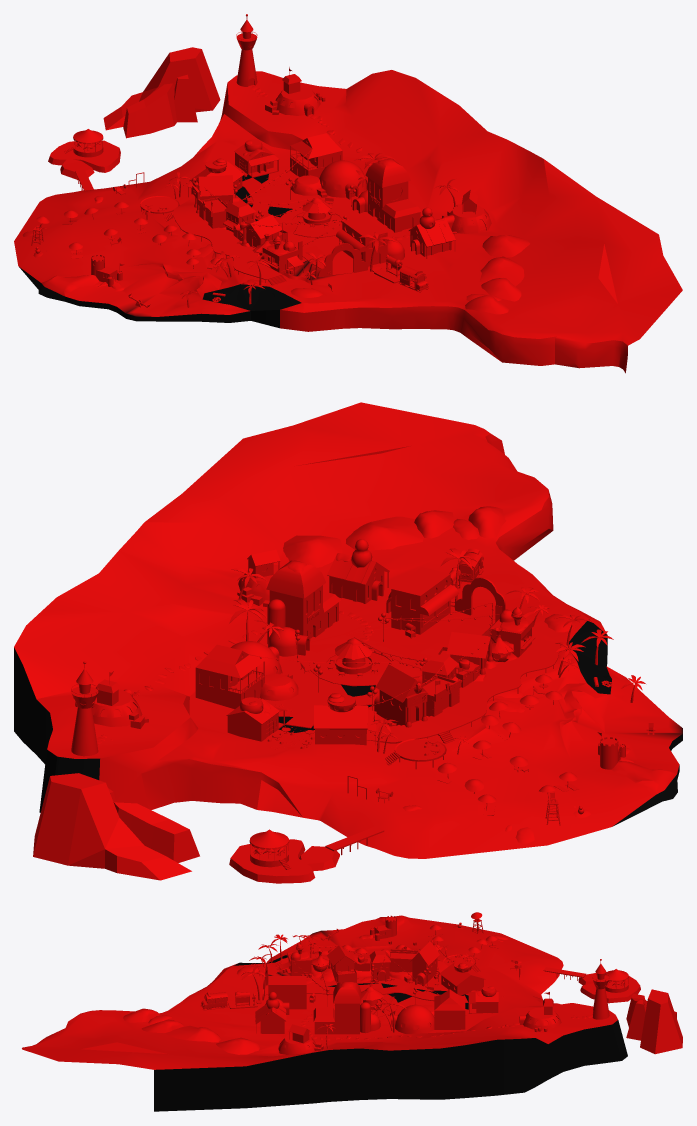
Rendered from Individual_BowlCutBeach_03.glb.
3 renders of one model, top to bottom at view 1: azimuth 30°, elevation 25°; view 2: azimuth 150°, elevation 25°; view 3: azimuth 270°, elevation 25°, orthographic. The views are drawn at different scales.
Visible parts, largest first — view 1: pasted__pasted__Berg, pCube337, polySurface197, polySurface154, polySurface123, polySurface158, polySurface98, polySurface51, pSphere7, pSphere3, polySurface109_f_0_, polySurface95 (+19 smaller); view 2: pasted__pasted__Berg, pCube337, polySurface154, polySurface197, polySurface98, polySurface51, polySurface123, Bar, polySurface184, polySurface158, pCube300, polySurface95 (+19 smaller); view 3: pasted__pasted__Berg, pCube337, polySurface197, polySurface98, Bar, polySurface51, polySurface123, pSphere3, pSphere7, BlingBling, polySurface109_f_0_, polySurface158 (+16 smaller).
Boxes of the visible parts, box(x1,y1,x2,y2) form: pasted__pasted__Berg: box(14, 70, 682, 373); pCube337: box(48, 47, 220, 179); polySurface197: box(365, 158, 421, 232); polySurface154: box(173, 197, 286, 285); polySurface123: box(142, 153, 458, 307); polySurface158: box(242, 177, 353, 275); polySurface98: box(290, 133, 342, 177); polySurface51: box(336, 216, 387, 266); pSphere7: box(275, 67, 320, 116); pSphere3: box(319, 160, 366, 197); polySurface109_f_0_: box(448, 189, 491, 233); polySurface95: box(234, 139, 279, 177); pasted__pasted__Berg: box(14, 402, 682, 858); pCube337: box(33, 773, 339, 883); polySurface154: box(366, 638, 561, 743); polySurface197: box(266, 560, 340, 643); polySurface98: box(195, 644, 264, 709); polySurface51: box(391, 567, 458, 634); polySurface123: box(229, 548, 645, 754); Bar: box(313, 693, 376, 745); polySurface184: box(375, 664, 427, 727); polySurface158: box(285, 614, 495, 728); pCube300: box(327, 553, 389, 603); polySurface95: box(226, 697, 286, 741); pasted__pasted__Berg: box(22, 915, 627, 1111); pCube337: box(578, 973, 682, 1054); polySurface197: box(313, 982, 370, 1034); polySurface98: box(434, 989, 465, 1029); Bar: box(438, 961, 485, 995); polySurface51: box(268, 976, 306, 1009); polySurface123: box(241, 934, 476, 1048); pSphere3: box(395, 1004, 434, 1033); pSphere7: box(519, 992, 561, 1030); BlingBling: box(327, 945, 356, 983); polySurface109_f_0_: box(278, 1024, 315, 1054); polySurface158: box(265, 984, 468, 1002).
Bounding box in the file's own units: 93.05 × 21.08 × 136.
